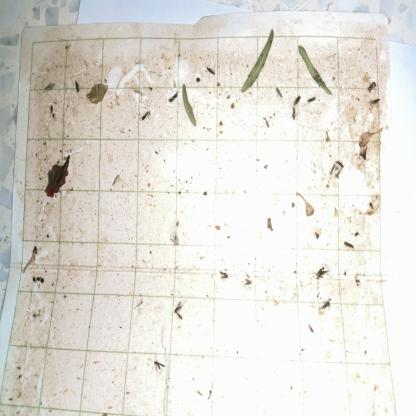prays_oleae: (169, 299, 188, 326), (312, 258, 330, 283), (150, 352, 166, 377), (242, 264, 255, 293), (166, 87, 181, 110), (318, 295, 334, 316), (272, 82, 286, 105), (137, 110, 153, 129), (304, 92, 320, 108), (289, 93, 304, 109), (340, 238, 356, 252), (219, 267, 230, 286), (204, 63, 216, 80), (291, 106, 299, 126), (370, 94, 380, 109), (367, 78, 376, 92), (72, 82, 82, 94)
